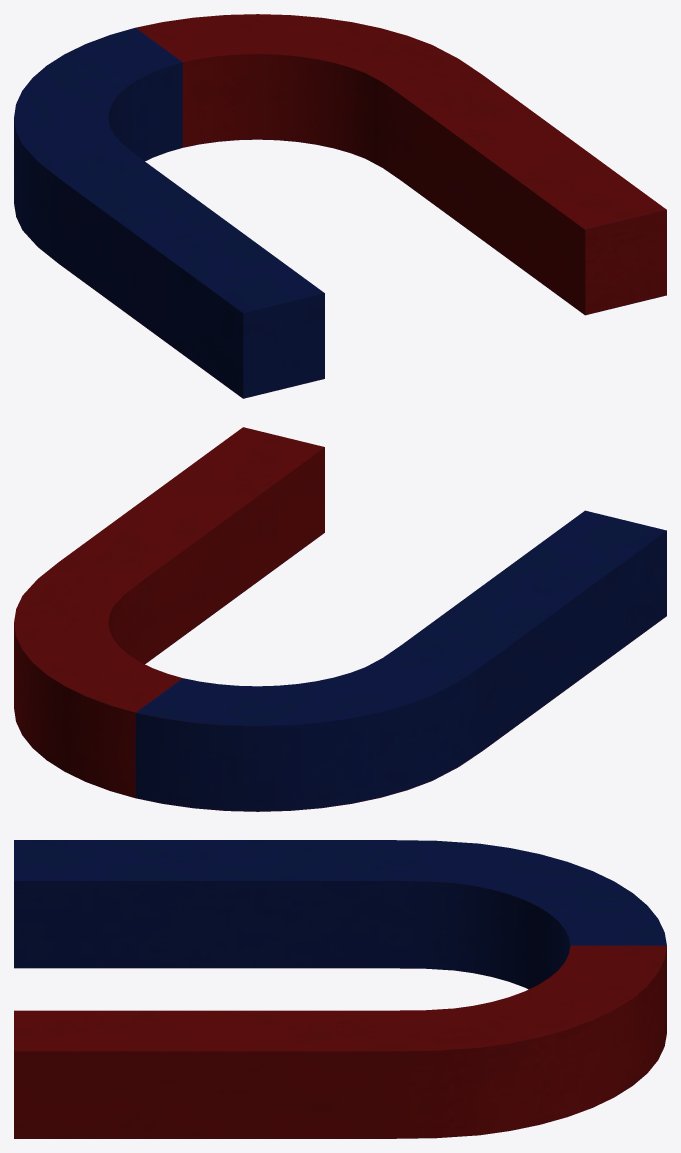
The model's file is magnet.glb.
3 renders of one model, top to bottom at view 1: azimuth 30°, elevation 25°; view 2: azimuth 150°, elevation 25°; view 3: azimuth 270°, elevation 25°, orthographic. The views are drawn at different scales.
Parts seen in each view (by area): view 1: Cube; view 2: Cube; view 3: Cube.
Boxes of the visible parts, x1,y1,x2,y2 form: Cube: (14, 14, 666, 398); Cube: (14, 427, 666, 811); Cube: (14, 840, 666, 1138).
Bounding box in the file's own units: 0.1493 × 0.0288 × 0.195.
1 material, 1 textured.
